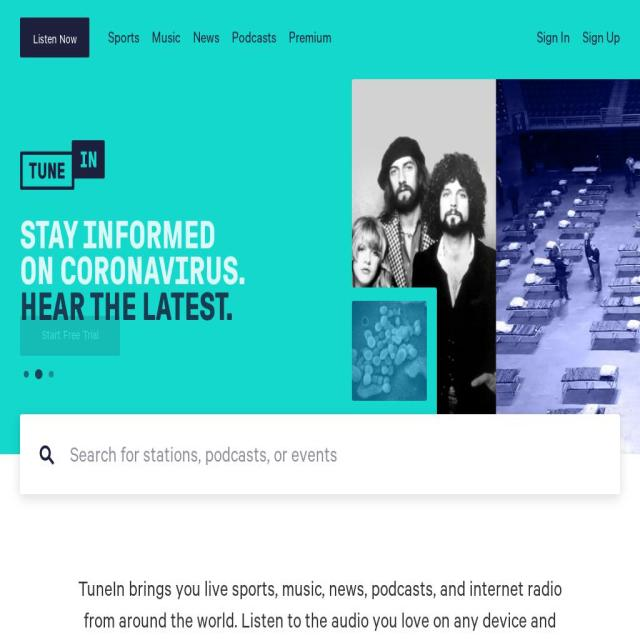button: (352, 79, 640, 454), (20, 218, 209, 248), (20, 248, 209, 278), (20, 278, 209, 308), (20, 316, 120, 356), (20, 18, 89, 58), (232, 30, 276, 47), (289, 30, 331, 47), (582, 30, 620, 47), (537, 30, 570, 47), (108, 30, 140, 47), (152, 30, 180, 47), (193, 30, 219, 47)
field: (32, 442, 620, 470)
heading: (73, 574, 567, 640)
image: (352, 79, 640, 454), (20, 140, 105, 190), (39, 444, 55, 466), (22, 369, 30, 379), (36, 371, 42, 377), (48, 371, 54, 377)
text: (23, 320, 117, 352), (23, 22, 86, 58), (232, 30, 276, 47), (289, 30, 331, 47), (582, 30, 620, 47), (537, 30, 570, 47), (108, 30, 140, 47), (152, 30, 180, 47), (193, 30, 219, 47)
